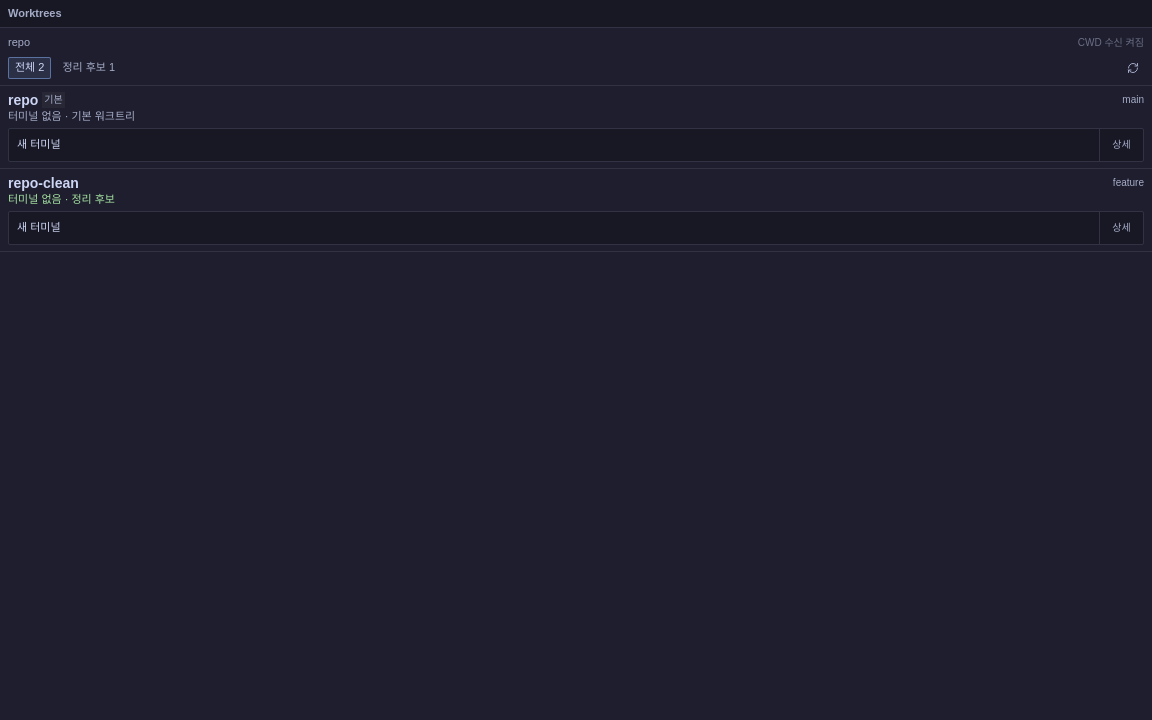
Test case: WorktreeView › 갱신 중 기존 목록·선택은 유지하고 이전 제거 확인은 사용할 수 없다
The image size is (1152, 720).
Click the button "상세" below "feature".
click(1121, 228)  # box [1099,212,1143,244]
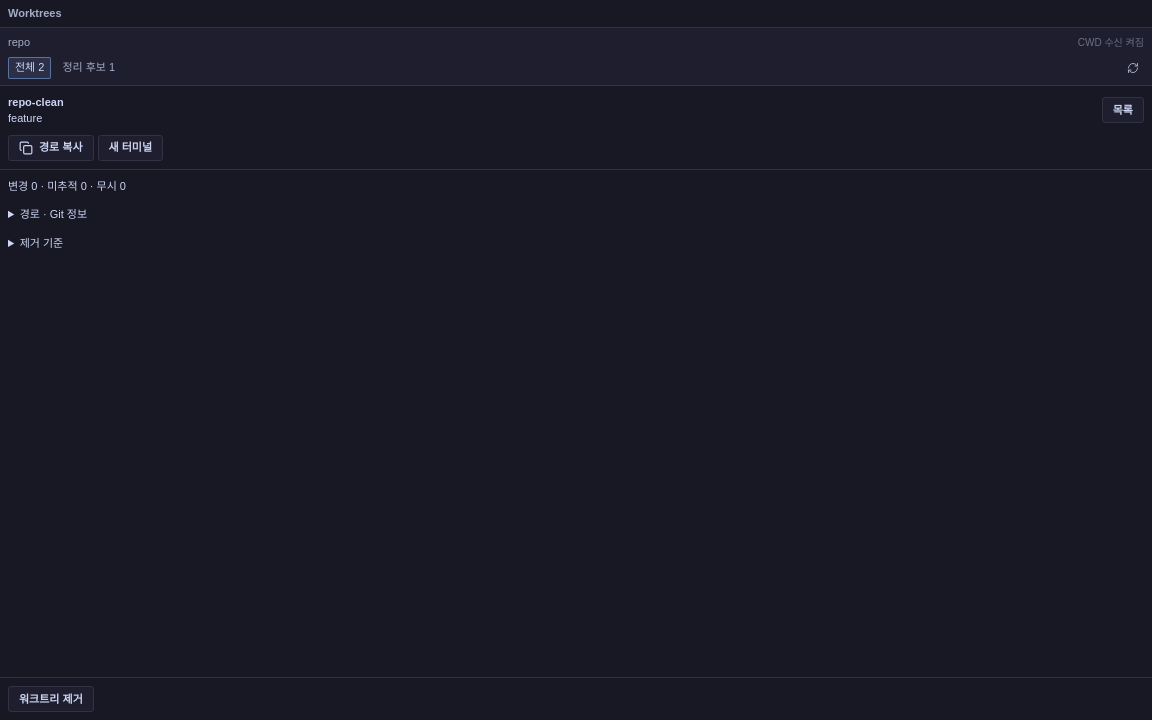
Click the button "워크트리 제거".
click(51, 699)  # box [8,686,94,712]
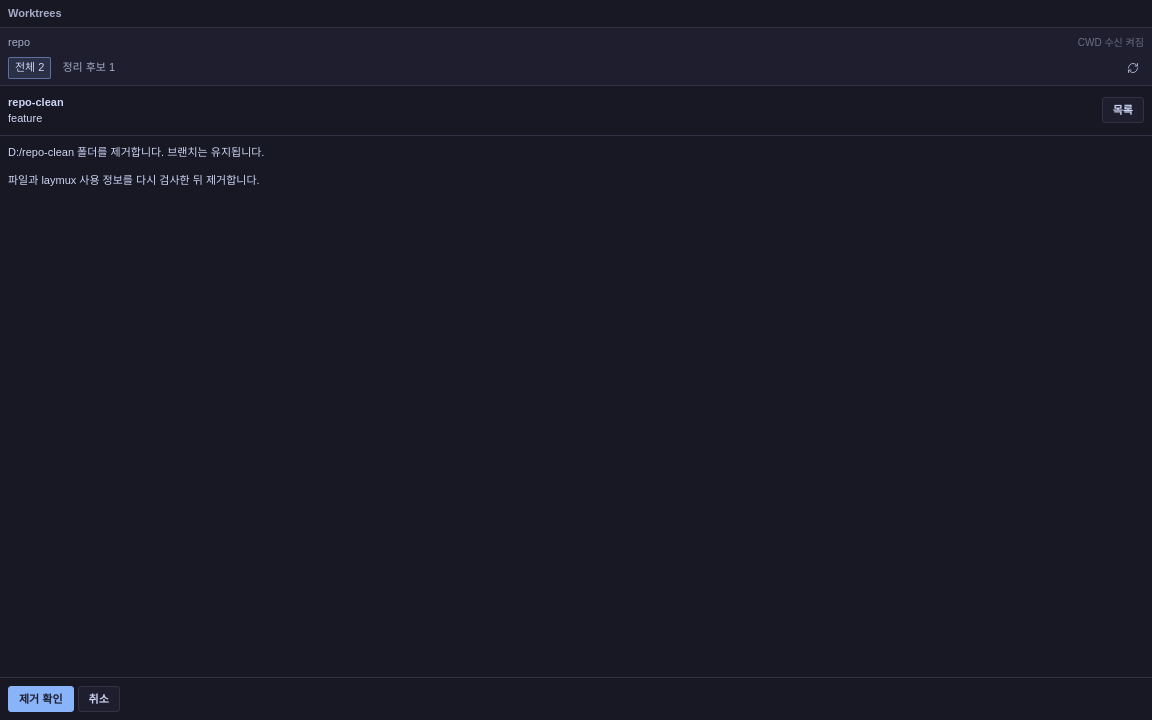
Click the button named "워크트리 새로고침".
click(1133, 68)  # box [1122,56,1144,78]
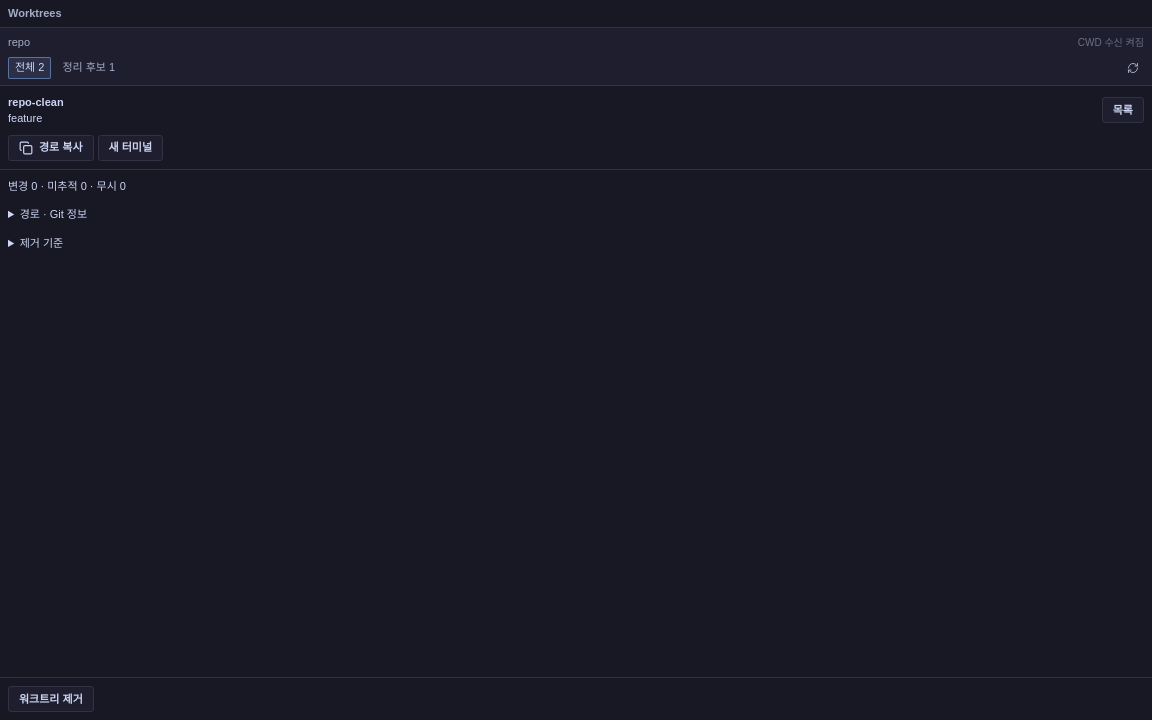
Expected: the button "정리 후보 1" is shown, [55,56,122,78]
Result: the element with test id "worktree-detail" is shown
Result: the button "제거 확인" is gone
